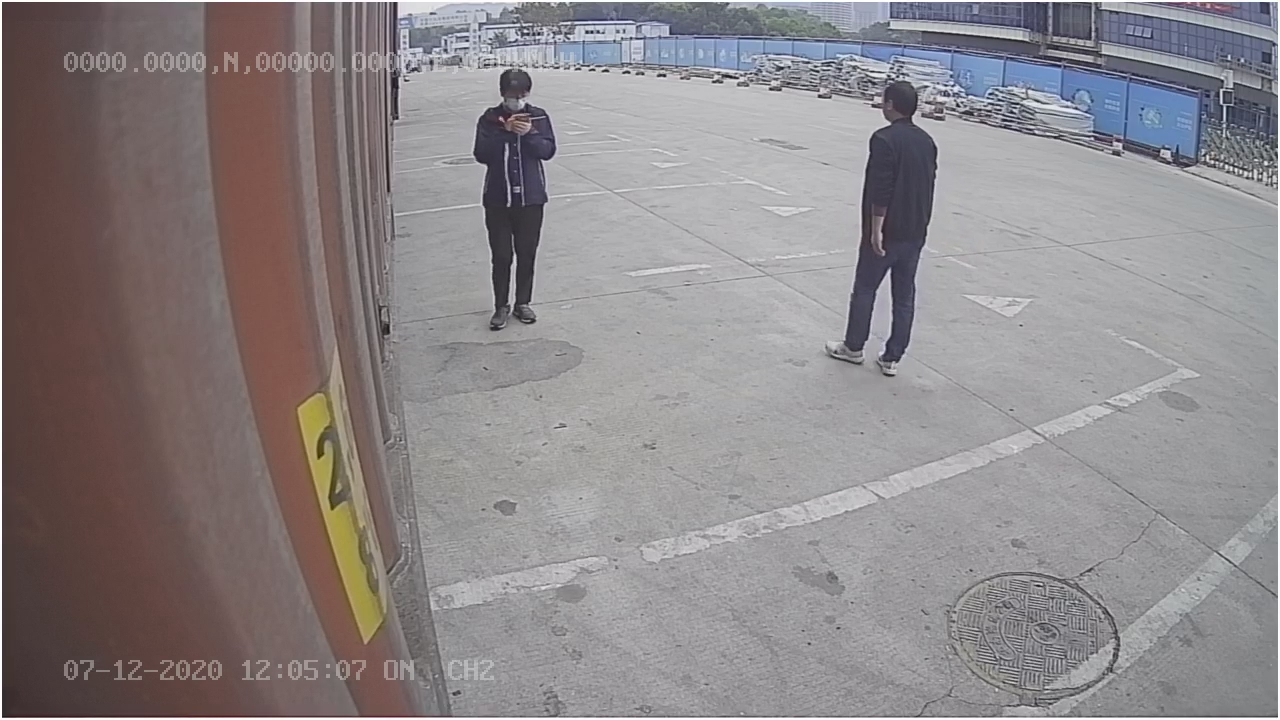person: (822, 78, 939, 377), (465, 67, 562, 333)
